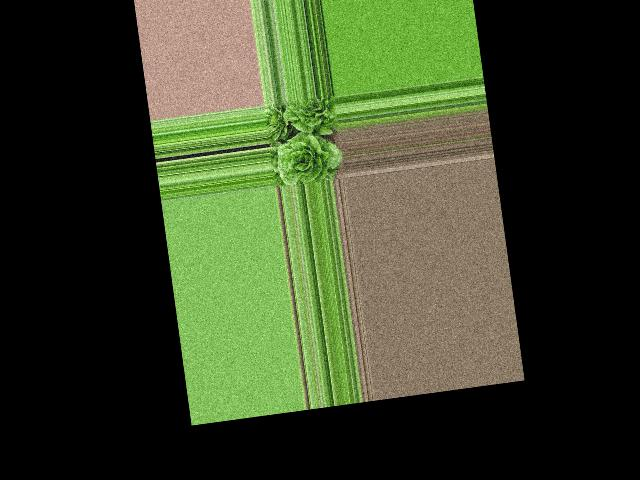lettuce: (281, 94, 337, 135)
